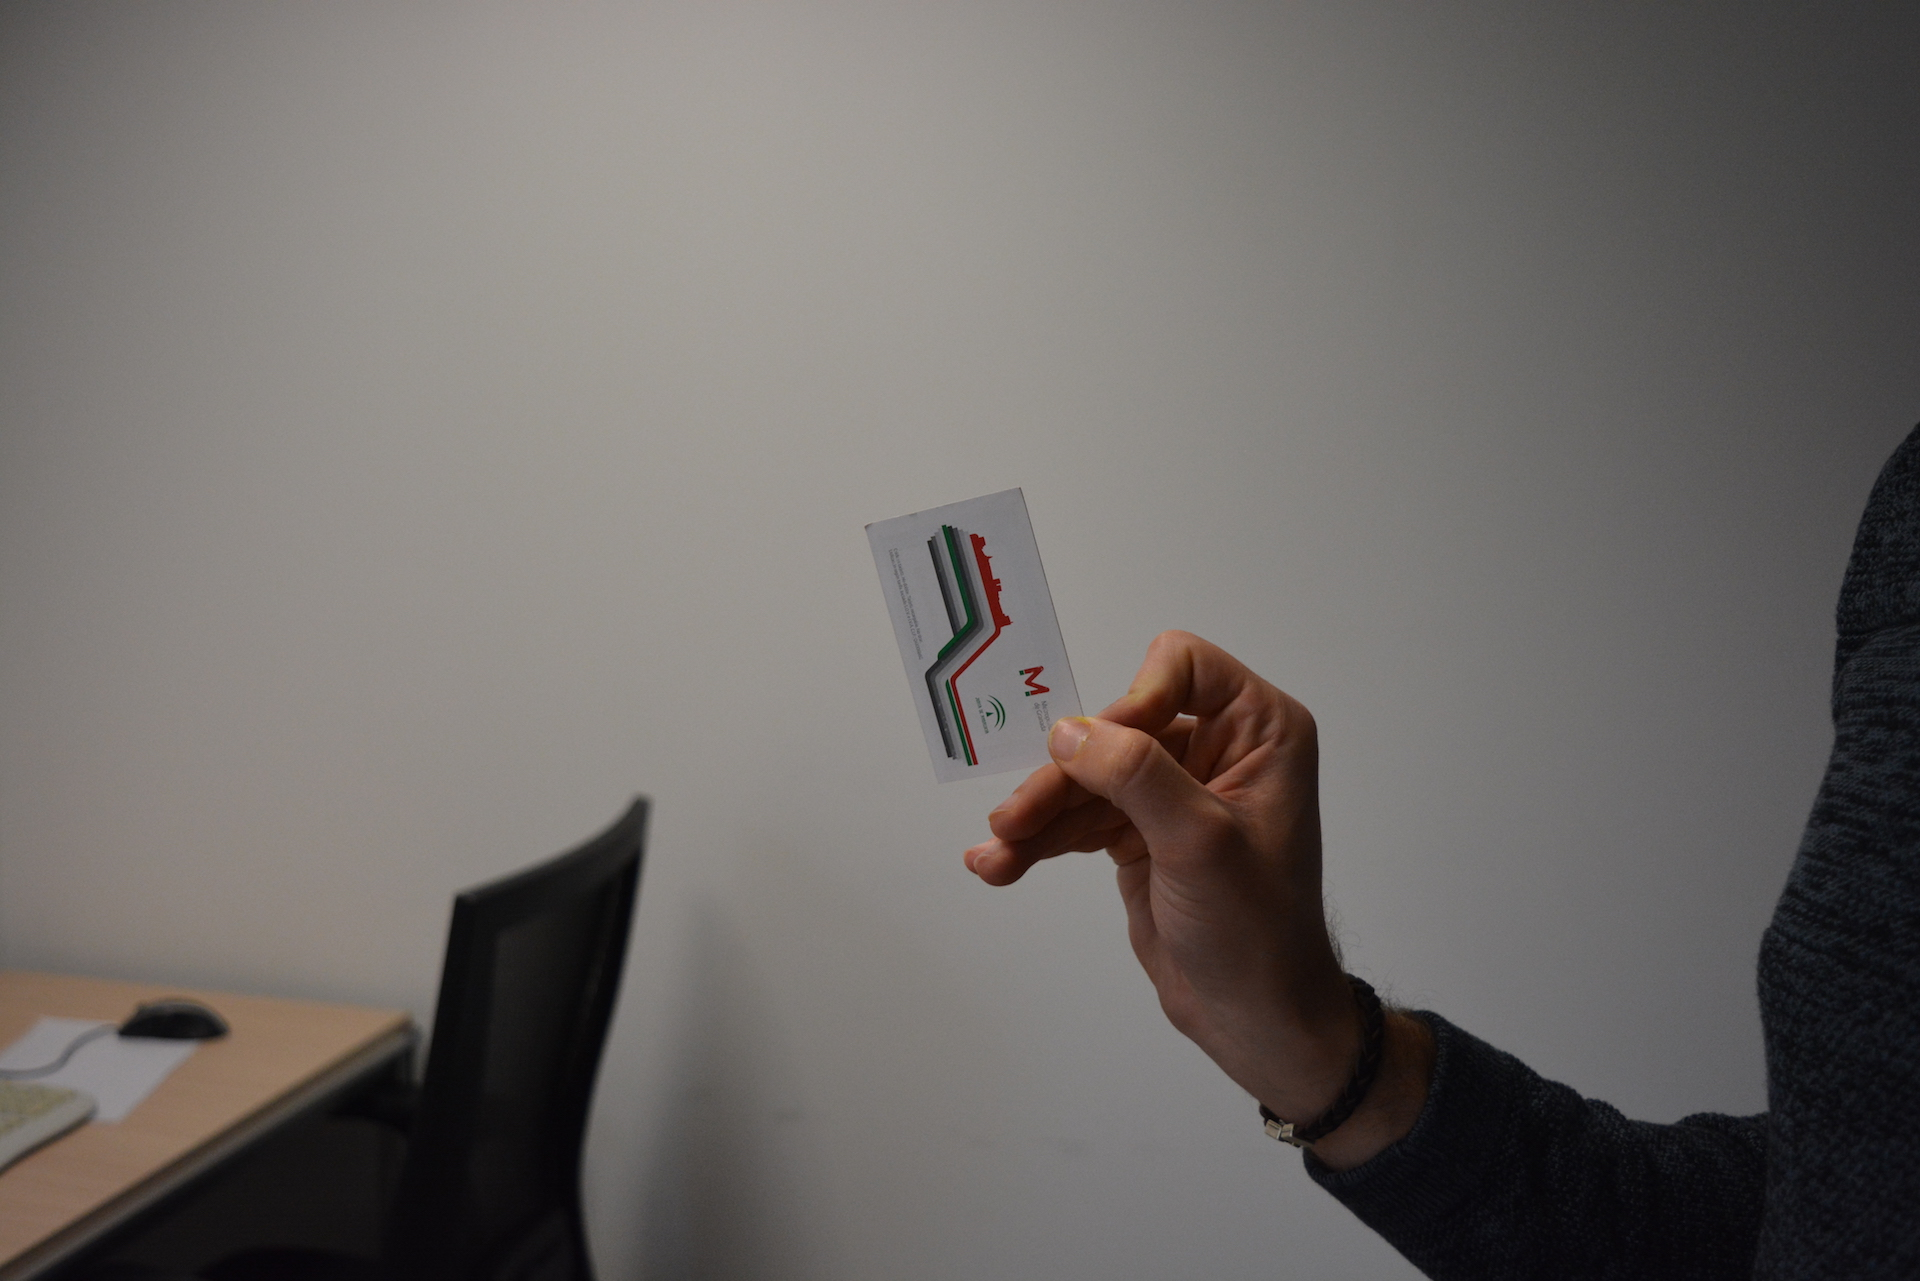tarjeta: (863, 485, 1087, 785)
